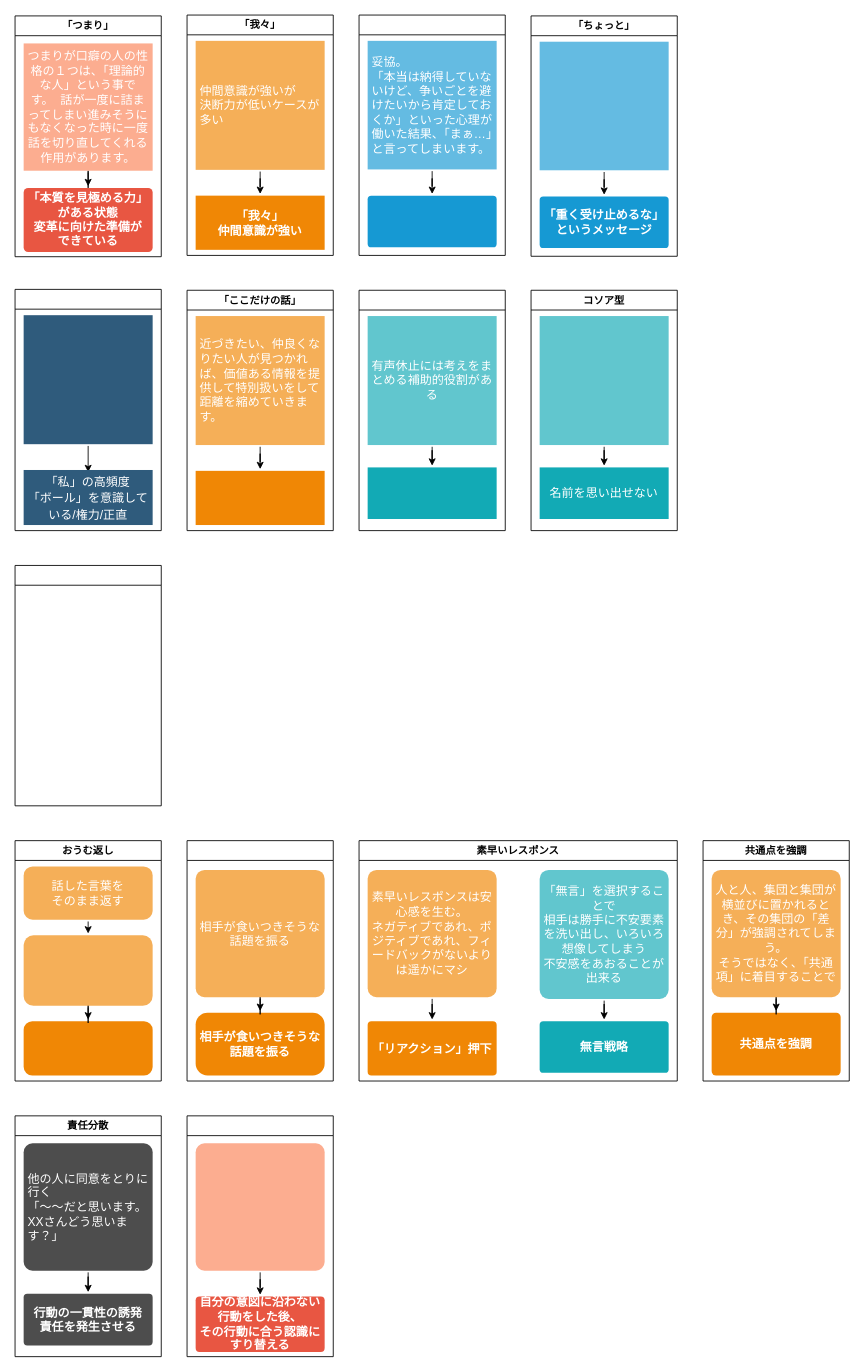
The diagram is 864 pixels wide and 1372 high, and some of its shapes have lost their labels. The box of each missing label's shape, as (x1, y1, x2, y2) in pixels:
「えーと」「あのー」: (358, 289, 505, 531)
「ちょっと」を付けるとクッションの役目をして、棘のないやんわりとした表現にすることができ、 > 本音をはぐらかすことができます。: (539, 41, 668, 170)
「まぁ」: (358, 14, 505, 255)
「まぁ」 妥協: (367, 195, 496, 247)
「仲良くしてね」という意図的なメッセージ: (195, 470, 324, 525)
「私」を多く言う人は - 会話のボールを意識する人 - 権力者 - 正直者 これらの要素を自由要旨する: (23, 315, 152, 444)
モノが主語: (14, 565, 161, 806)
同じ行動をとる人を 無意識に気に入ってしまう心理: (23, 935, 152, 1005)
名前の検索と，適切な表現の検討に二分される。 （中略）名前の検索とは簡単に言うと，モノ自体はわかっているが，モノの名前が思い出せないと言う場合の心的操作である。: (539, 316, 668, 445)
好感度 +1: (23, 1021, 152, 1075)
相手の話したい事: (186, 840, 333, 1081)
脳の回転が遅い、大量の情報に、脳がオーバーフローしている: (367, 467, 496, 519)
行動の一貫性: (186, 1115, 333, 1357)
質問をしてしまった: (195, 1143, 324, 1270)
高頻度の「私」: (14, 289, 161, 531)
